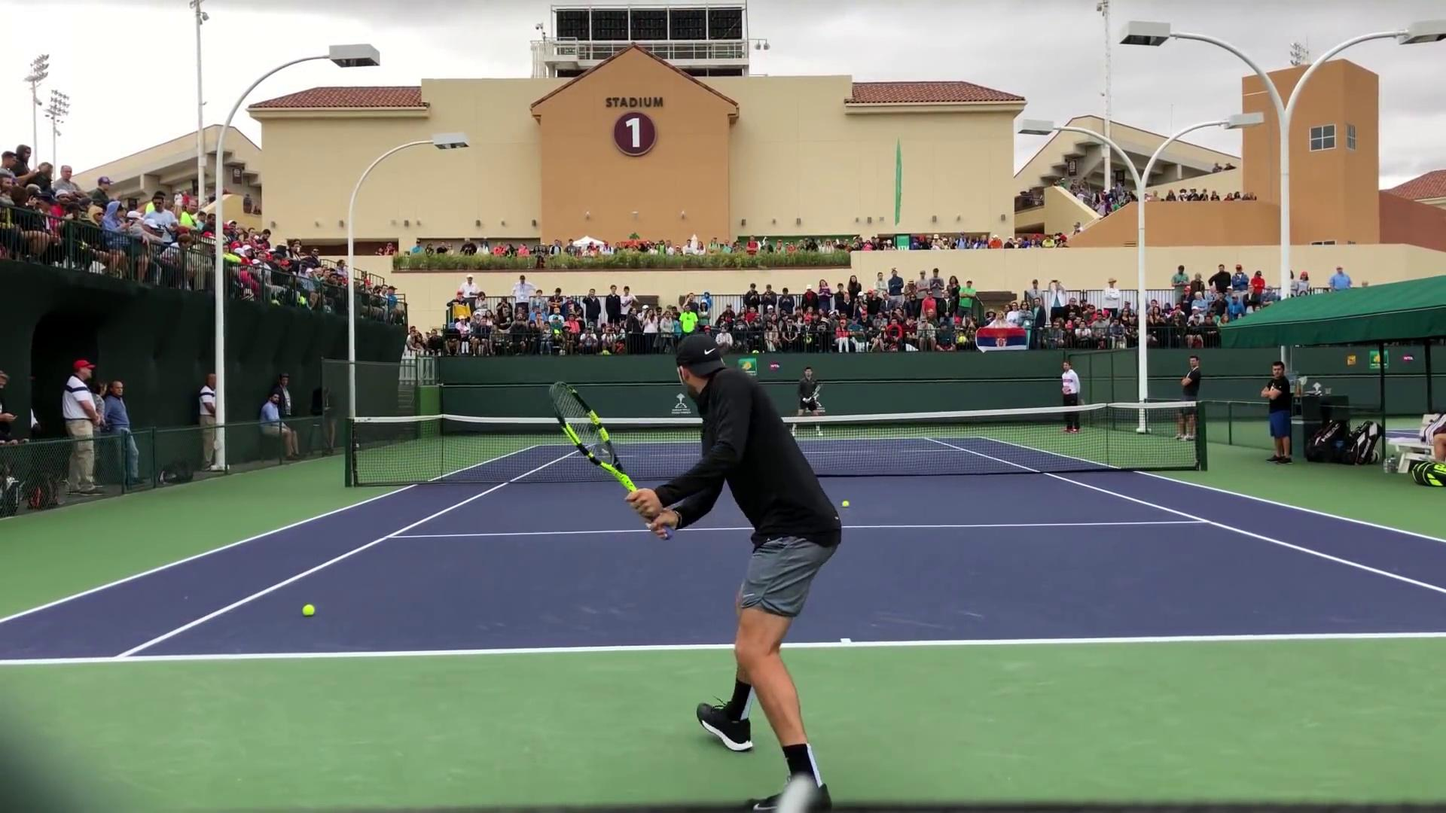ball: (301, 604, 316, 616), (840, 501, 849, 509)
